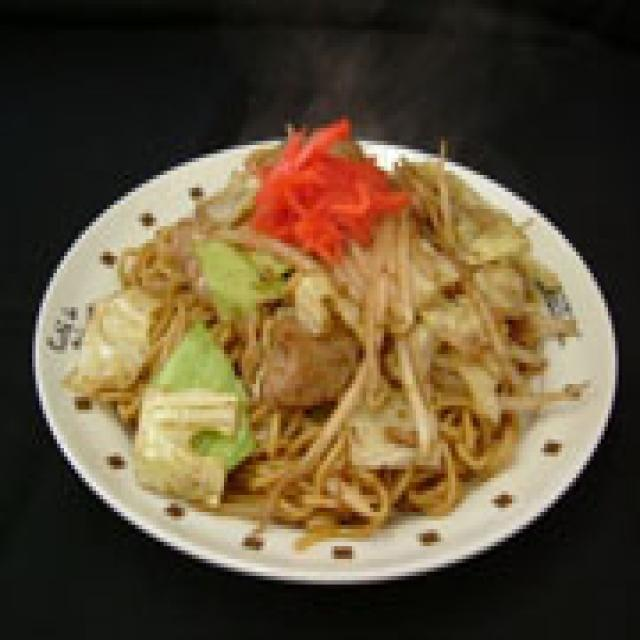面条主食: (14, 111, 619, 597)
